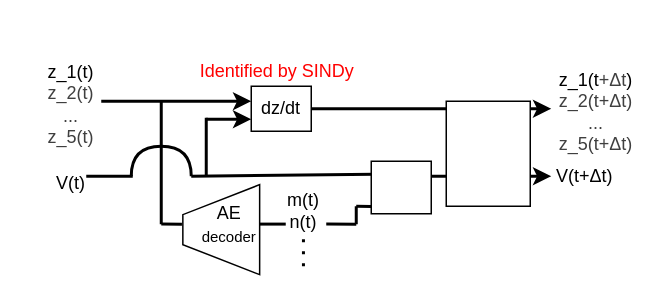
Some shapes in this 666 by 302 pixel diagram are drawn without their labels. Here are the shapes that lost their labels. From the top down, the centre of each, then its label:
At point 487,153: "ODE solver (Euler method, dt=0.0.1[ms])".
At point 400,187: "dv/dt".
